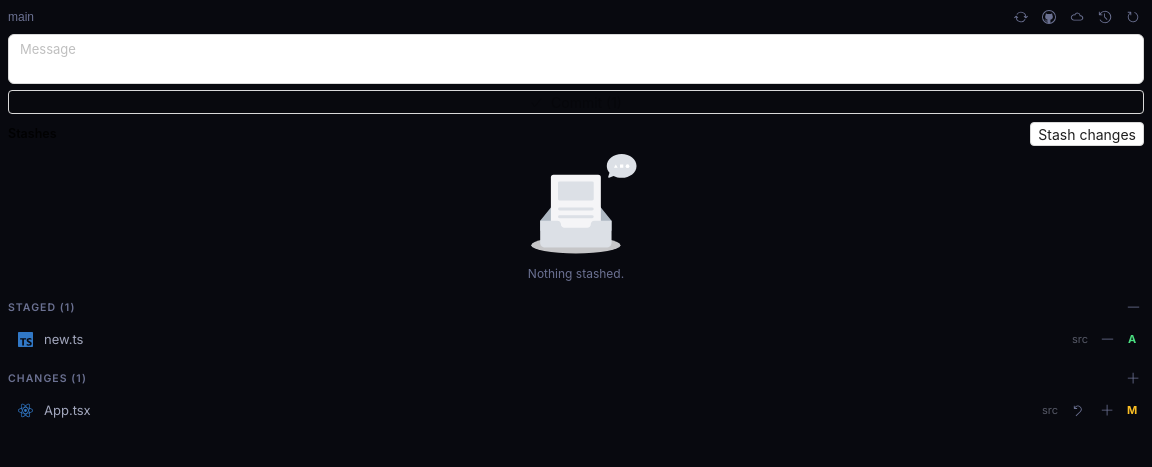
Test: SourceControlPanel diffs › reports a diff that could not be loaded
What coordinates should you click on to do the following:
click the text "App.tsx"
I would click on:
 (67, 410)
Its box is [44, 402, 91, 418].
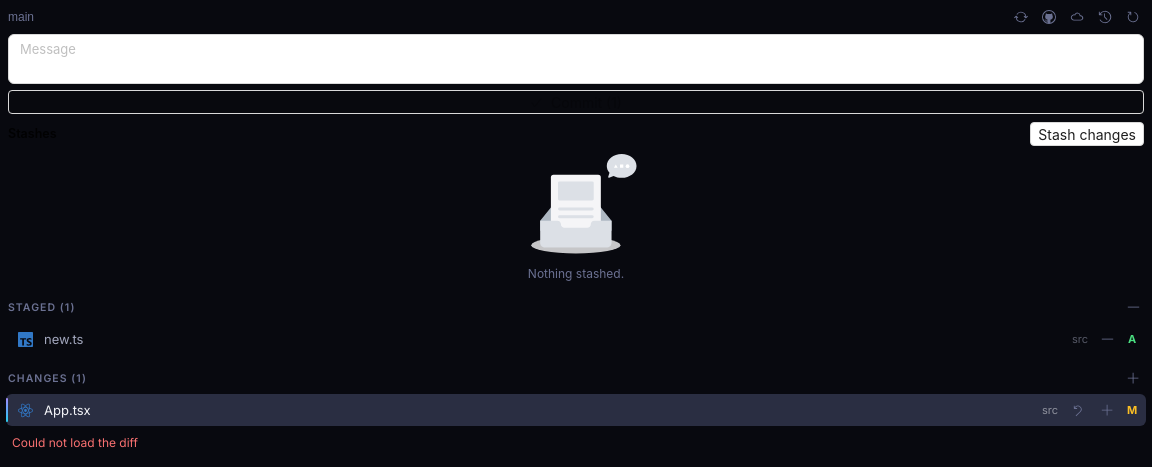
Now the text "Could not load the diff" is shown, box [12, 435, 138, 450]
